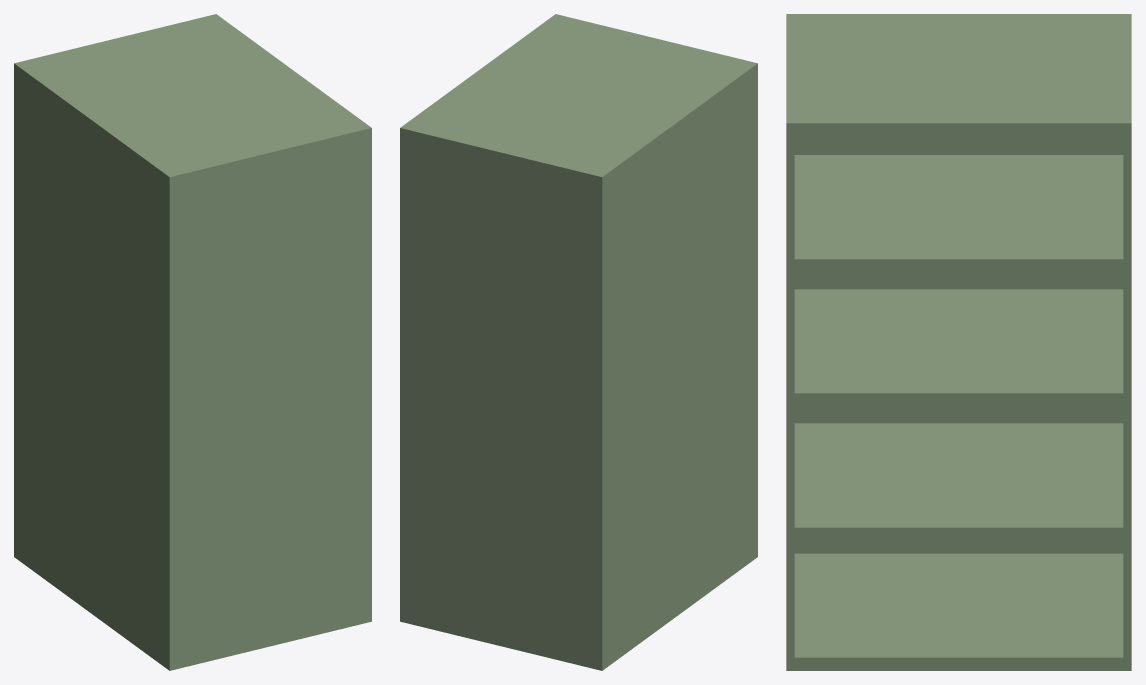
Rendered from Cabinet_Wall.fbx.
The picture shows the model from 3 angles, left to right: view 1: azimuth 30°, elevation 25°; view 2: azimuth 150°, elevation 25°; view 3: azimuth 270°, elevation 25°; orthographic projection. The views are drawn at different scales.
Parts seen in each view (by area): view 1: Cabinet_Wall; view 2: Cabinet_Wall; view 3: Cabinet_Wall.
Boxes of the visible parts, bbox=[...] form: Cabinet_Wall: bbox=[14, 14, 371, 670]; Cabinet_Wall: bbox=[400, 14, 757, 670]; Cabinet_Wall: bbox=[786, 14, 1131, 670].
Bounding box in the file's own units: 30 × 70 × 40.
